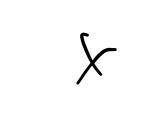mult: (76, 32, 117, 84)
